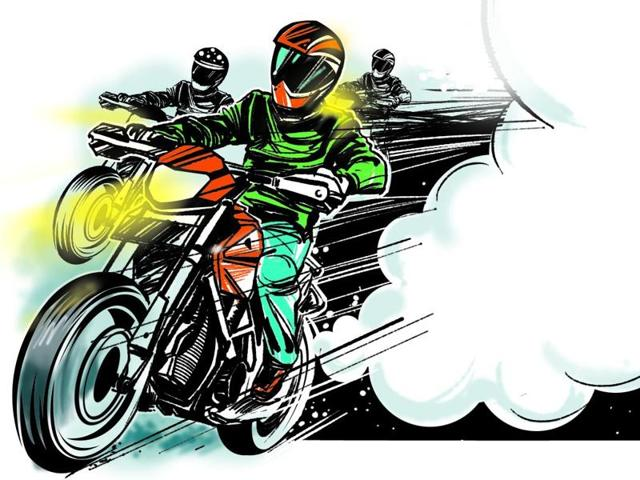with_helmet: (268, 13, 349, 112), (187, 43, 232, 92), (368, 42, 398, 80)
